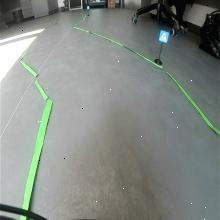crosswalk: (158, 29, 170, 44)
